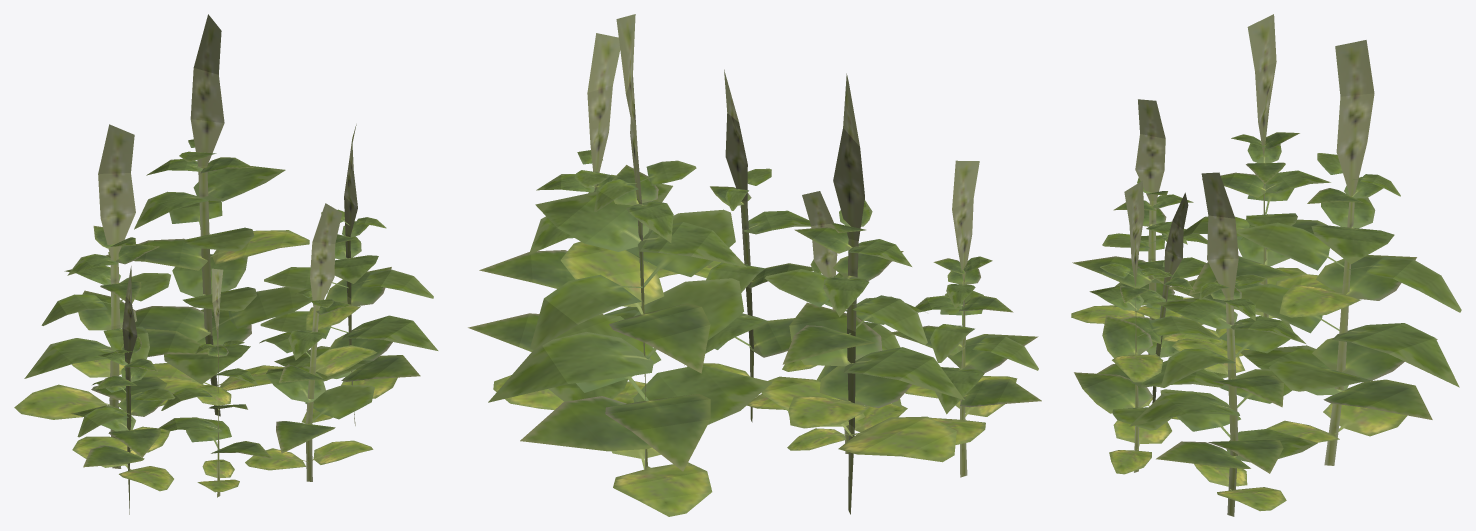
Rendered from grass.glb.
3 renders of one model, left to right at view 1: azimuth 30°, elevation 25°; view 2: azimuth 150°, elevation 25°; view 3: azimuth 270°, elevation 25°, orthographic. The views are drawn at different scales.
Visible parts, largest first — view 1: flower_19_05_LOD0; view 2: flower_19_05_LOD0; view 3: flower_19_05_LOD0.
Boxes of the visible parts, x1,y1,x2,y2 form: flower_19_05_LOD0: (14,14,438,514); flower_19_05_LOD0: (468,14,1041,516); flower_19_05_LOD0: (1071,14,1461,516).
Size of what is drawn, in the model's own units: 0.2349 by 0.2244 by 0.1832.
Materials: 1 (1 with a texture image).
